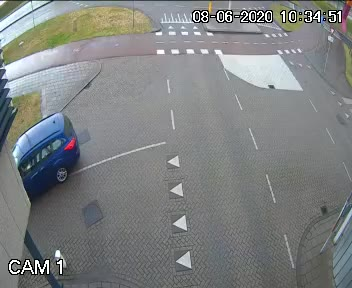car: (0, 111, 91, 201)
